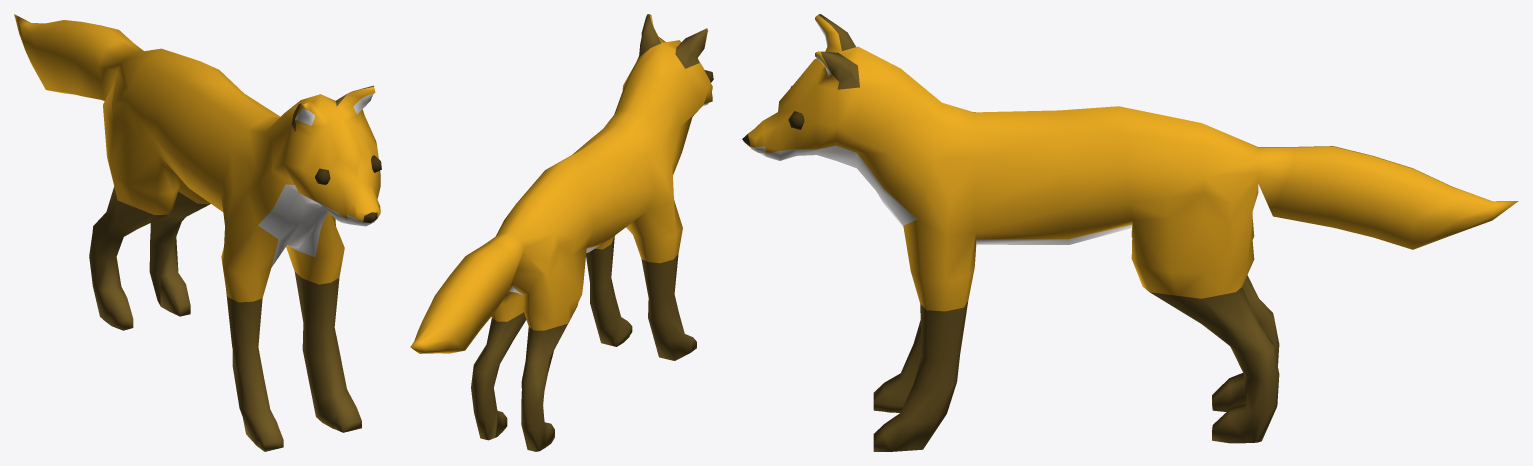
The picture shows the model from 3 angles, left to right: view 1: azimuth 30°, elevation 25°; view 2: azimuth 150°, elevation 25°; view 3: azimuth 270°, elevation 25°; orthographic projection. The views are drawn at different scales.
Parts seen in each view (by area): view 1: Fox.2; view 2: Fox.2; view 3: Fox.2.
Part boxes in pixels (left/top/right/bottom): Fox.2: left=14, top=14, right=381, bottom=451; Fox.2: left=410, top=14, right=713, bottom=451; Fox.2: left=742, top=14, right=1518, bottom=451.
Size of the model in its own units: 129 by 393 by 704.
